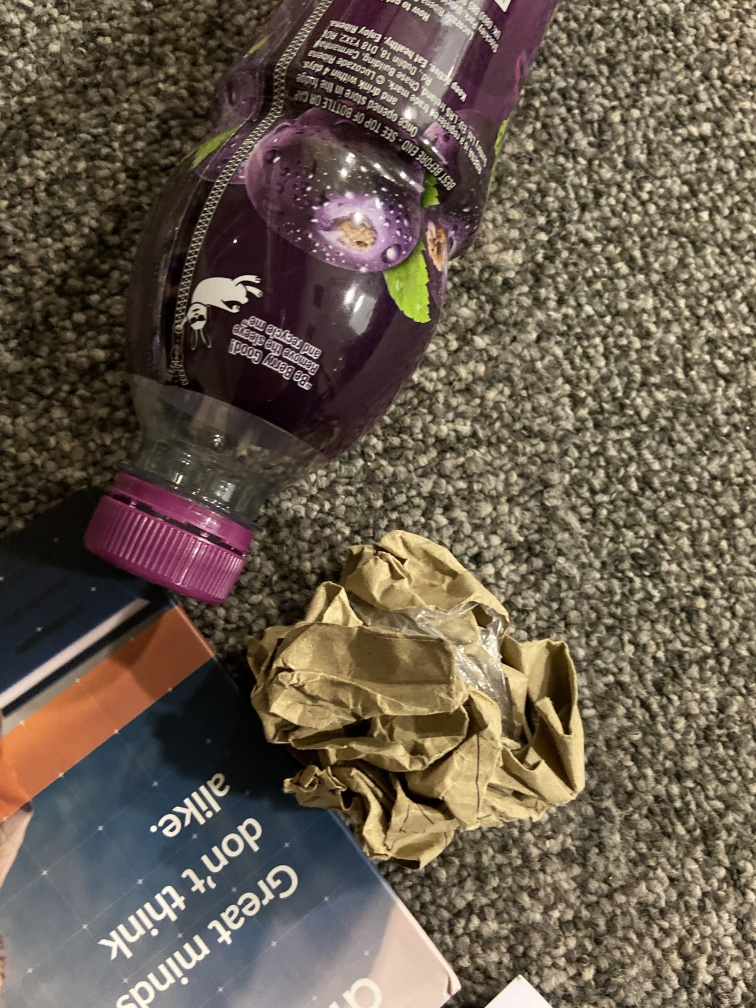bottle_purple: (82, 1, 567, 600)
paper_brown: (245, 527, 594, 865)
